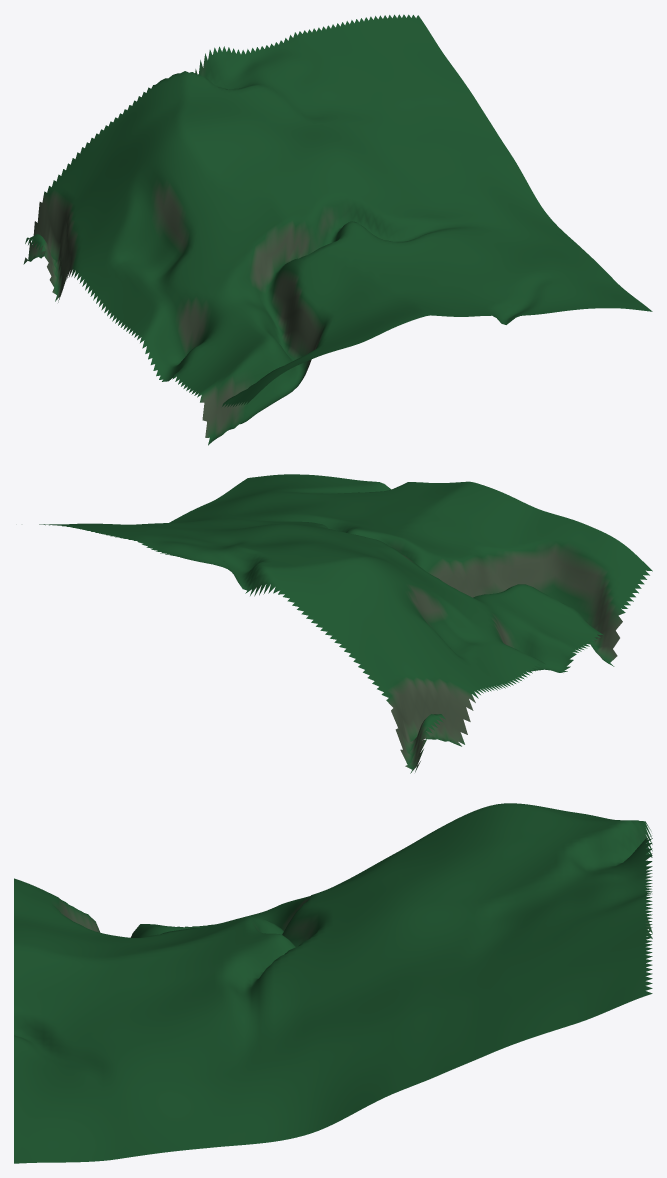
Rendered from payo_land_xm2_y2.glb.
3 renders of one model, top to bottom at view 1: azimuth 30°, elevation 25°; view 2: azimuth 150°, elevation 25°; view 3: azimuth 270°, elevation 25°, orthographic. The views are drawn at different scales.
Visible parts, largest first — view 1: payo_land_xm2_y2; view 2: payo_land_xm2_y2; view 3: payo_land_xm2_y2.
Part boxes in pixels (<box>): payo_land_xm2_y2: <box>23,14,652,445</box>; payo_land_xm2_y2: <box>39,474,652,773</box>; payo_land_xm2_y2: <box>14,803,652,1163</box>.
Size of the model in its own units: 258 by 124 by 258.
